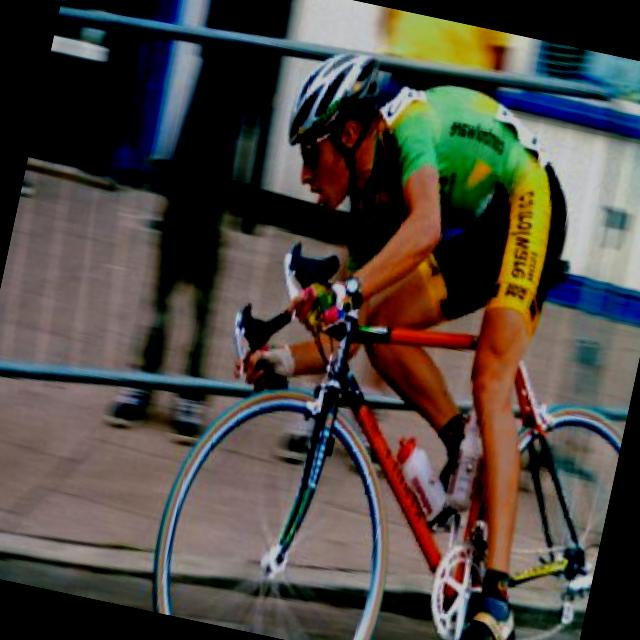Person: (179, 29, 633, 640)
